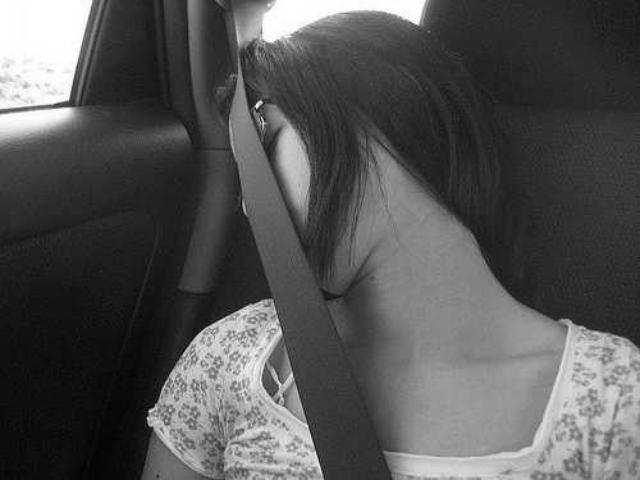Seatbelt: (224, 0, 396, 480)
